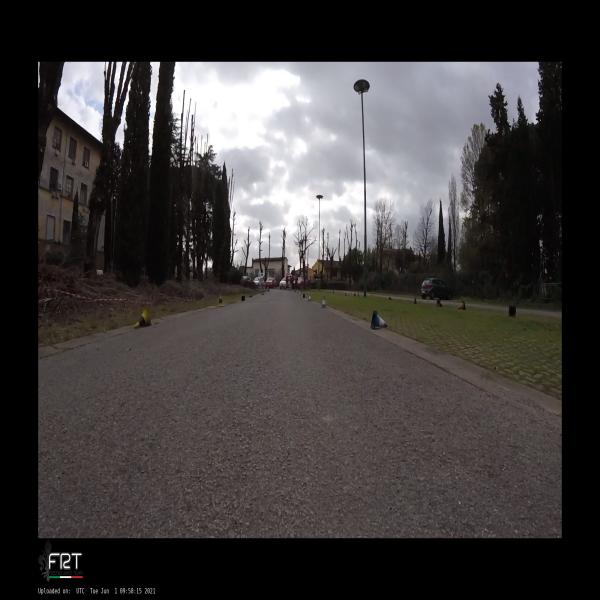blue_cone: (371, 311, 388, 329), (320, 295, 328, 308), (308, 294, 311, 302)
unknown_cone: (508, 306, 516, 318), (458, 301, 466, 310), (437, 300, 443, 307), (414, 297, 417, 304), (241, 296, 245, 301), (303, 294, 307, 298), (389, 296, 392, 300), (250, 294, 252, 297)
yellow_cone: (134, 308, 152, 329), (217, 294, 224, 307)
